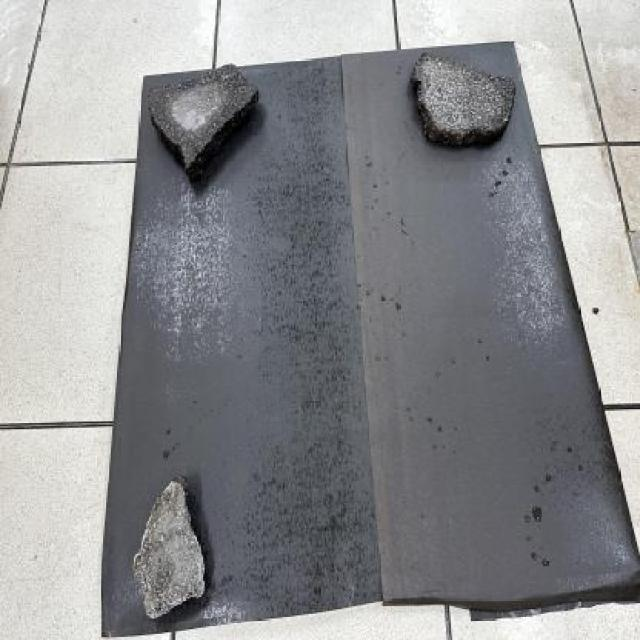Road Debris: (51, 513, 97, 595), (51, 171, 100, 237), (396, 611, 462, 640)
